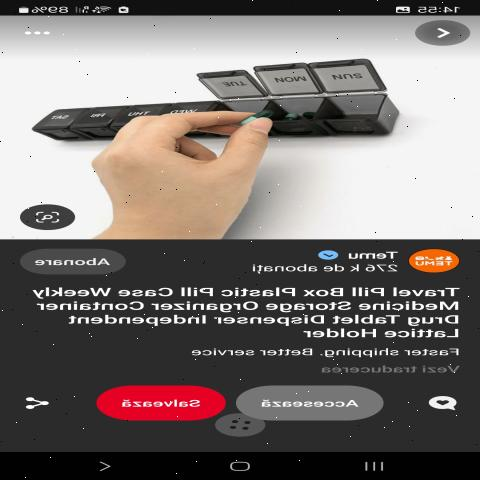Pill-box: (30, 42, 393, 160)
